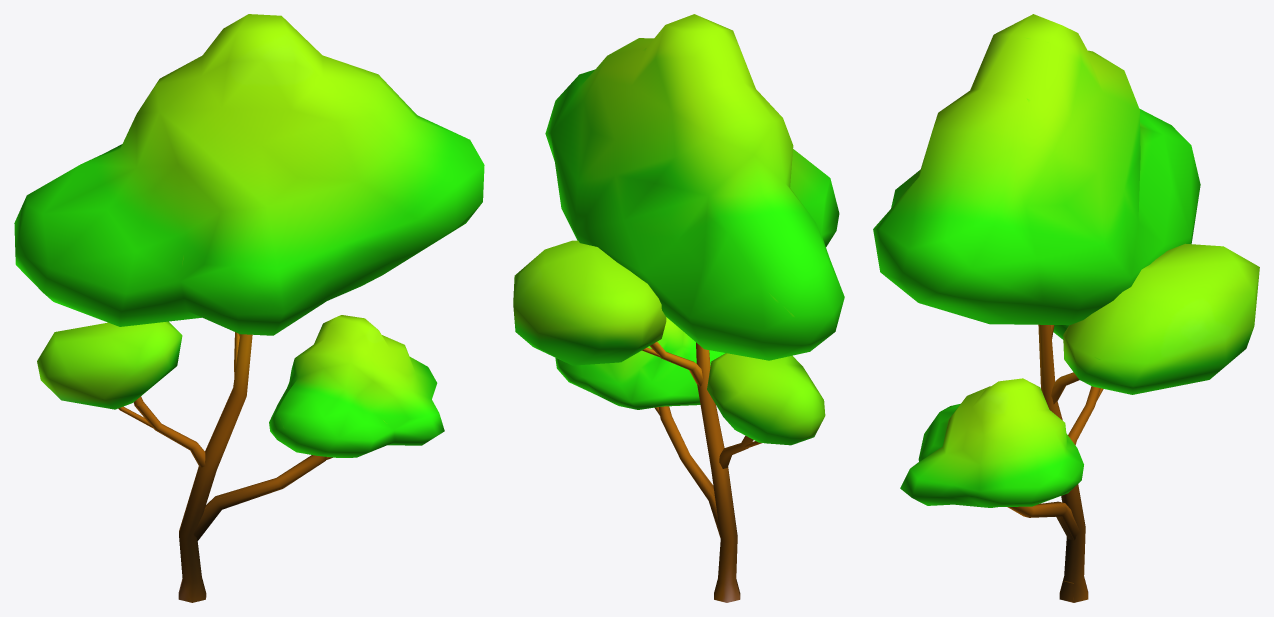
The model's file is TreeStyle3Blue_02.fbx.
The picture shows the model from 3 angles, left to right: view 1: azimuth 30°, elevation 25°; view 2: azimuth 150°, elevation 25°; view 3: azimuth 270°, elevation 25°; orthographic projection. The views are drawn at different scales.
Parts seen in each view (by area): view 1: TreeStyle3_02; view 2: TreeStyle3_02; view 3: TreeStyle3_02.
Part boxes in pixels (left/top/right/bottom): TreeStyle3_02: left=14, top=14, right=484, bottom=602; TreeStyle3_02: left=513, top=14, right=844, bottom=602; TreeStyle3_02: left=873, top=14, right=1259, bottom=602.
Size of the model in its own units: 1187 by 1743 by 1025.
